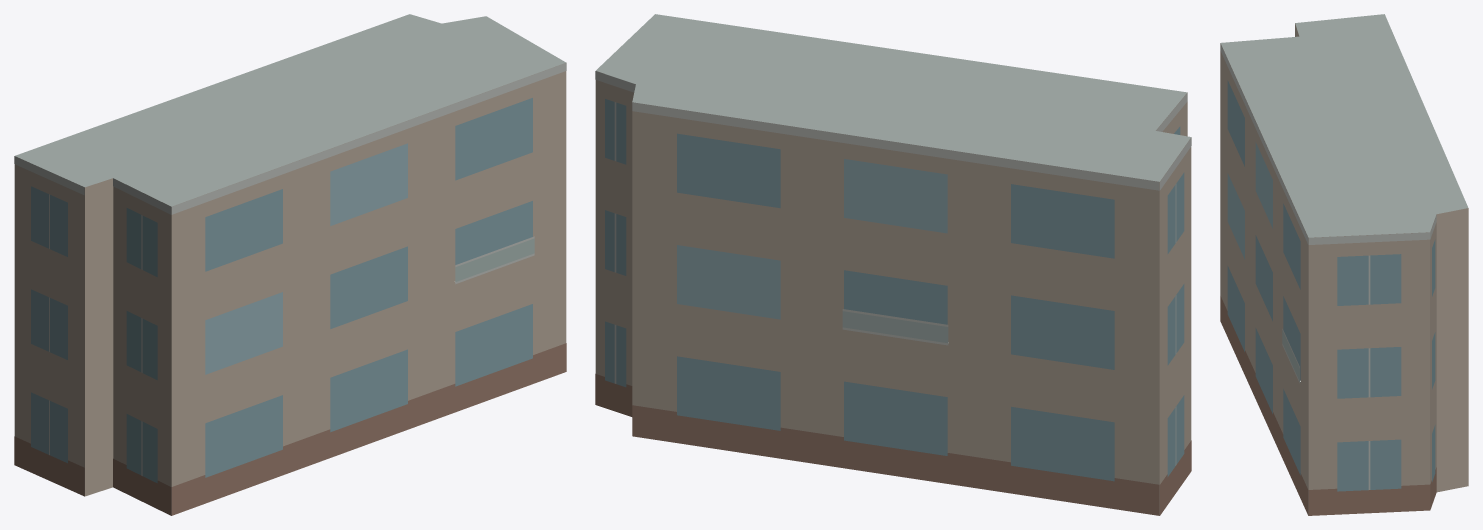
File: survey-upis-32735482.glb
The picture shows the model from 3 angles, left to right: view 1: azimuth 30°, elevation 25°; view 2: azimuth 150°, elevation 25°; view 3: azimuth 270°, elevation 25°; orthographic projection. The views are drawn at different scales.
Parts seen in each view (by area): view 1: survey-upis-32735482.tmp; view 2: survey-upis-32735482.tmp; view 3: survey-upis-32735482.tmp.
Boxes of the visible parts, box(x1,y1,x2,y2) form: survey-upis-32735482.tmp: box(14, 14, 566, 515); survey-upis-32735482.tmp: box(595, 14, 1191, 515); survey-upis-32735482.tmp: box(1220, 14, 1468, 515).
Size of the model in its own units: 15.79 by 9.15 by 7.41.
